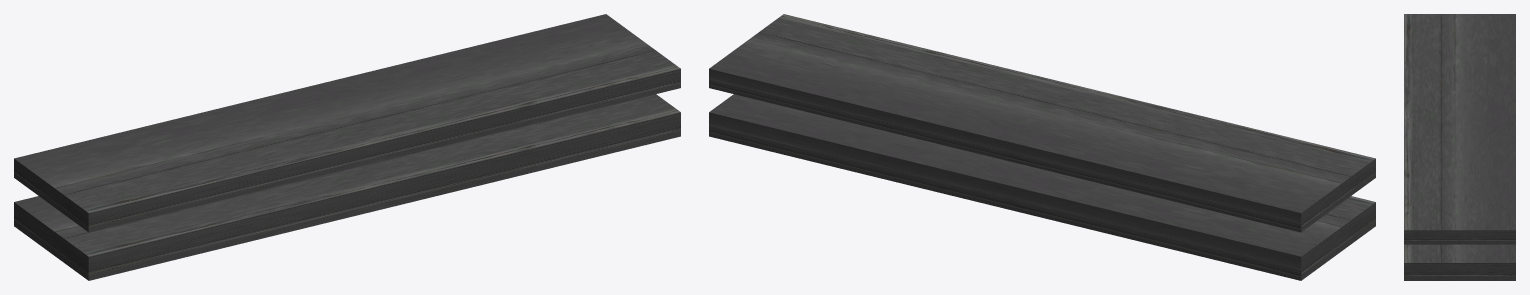
Rendered from p6_wire_trellis_wire_128_lod2.glb.
3 views of the same model, side by side, from view 1: azimuth 30°, elevation 25°; view 2: azimuth 150°, elevation 25°; view 3: azimuth 270°, elevation 25° (orthographic). The views are drawn at different scales.
Parts seen in each view (by area): view 1: surf0; view 2: surf0; view 3: surf0.
Part boxes in pixels (x1,y1,x2,y2): surf0: (14, 14, 680, 280); surf0: (709, 14, 1375, 280); surf0: (1404, 14, 1515, 280).
Bounding box in the file's own units: 128 × 14 × 28.
